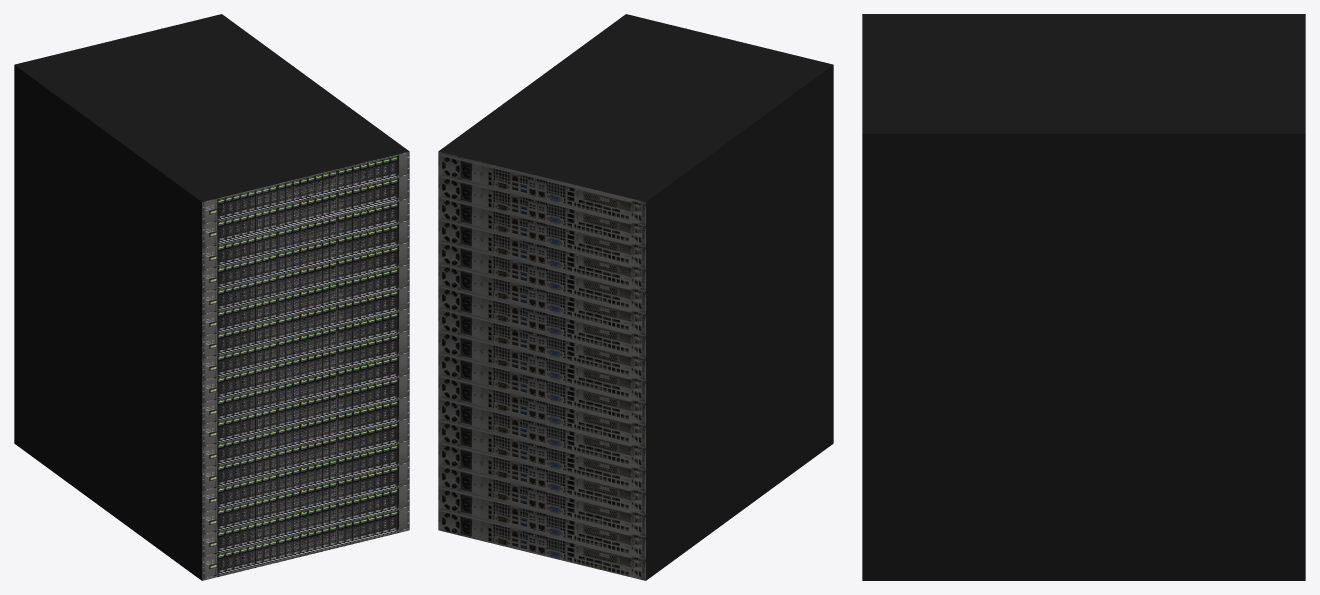
The model's file is NDR17.fbx.
3 renders of one model, left to right at view 1: azimuth 30°, elevation 25°; view 2: azimuth 150°, elevation 25°; view 3: azimuth 270°, elevation 25°, orthographic. The views are drawn at different scales.
Parts seen in each view (by area): view 1: NDR17; view 2: NDR17; view 3: NDR17.
Part boxes in pixels (x1=…): NDR17: x1=14, y1=14, x2=409, y2=580; NDR17: x1=438, y1=14, x2=833, y2=580; NDR17: x1=862, y1=14, x2=1305, y2=580.
Bounding box in the file's own units: 434 × 756 × 680.
Materials: 3 (2 with a texture image).
